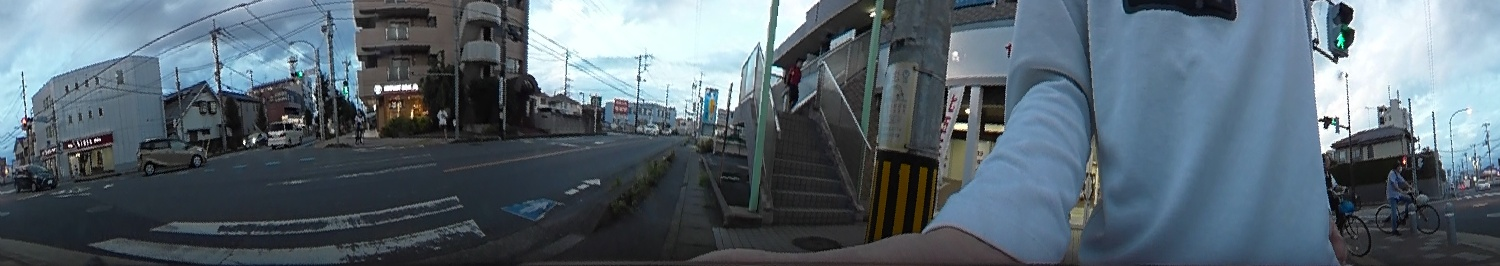difficult_person: (1318, 149, 1346, 227), (780, 55, 804, 103), (350, 108, 366, 141), (436, 103, 450, 139)
person: (1378, 159, 1413, 230)
